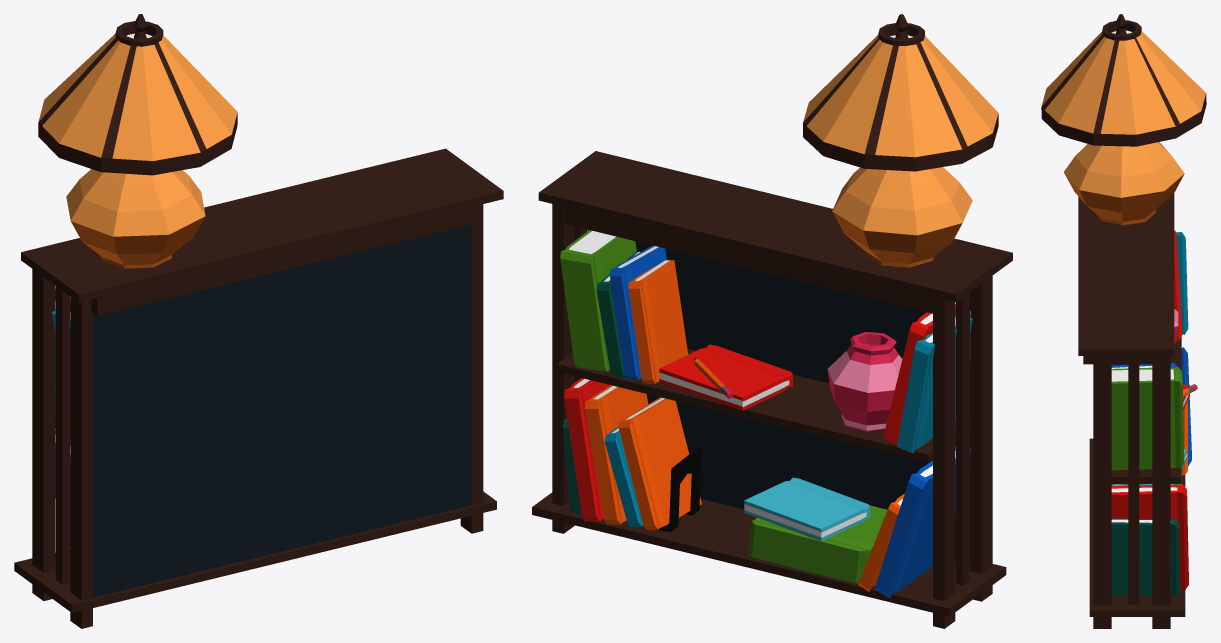
Rendered from bookcase.obj.
3 renders of one model, left to right at view 1: azimuth 30°, elevation 25°; view 2: azimuth 150°, elevation 25°; view 3: azimuth 270°, elevation 25°, orthographic. The views are drawn at different scales.
Visible parts, largest first — view 1: group187267960; view 2: group187267960; view 3: group187267960.
Boxes of the visible parts, left/top/right/bottom form: group187267960: left=14, top=14, right=503, bottom=628; group187267960: left=532, top=14, right=1012, bottom=628; group187267960: left=1041, top=14, right=1206, bottom=628.
Size of the model in its own units: 1.1 by 1.44 by 0.4475.
